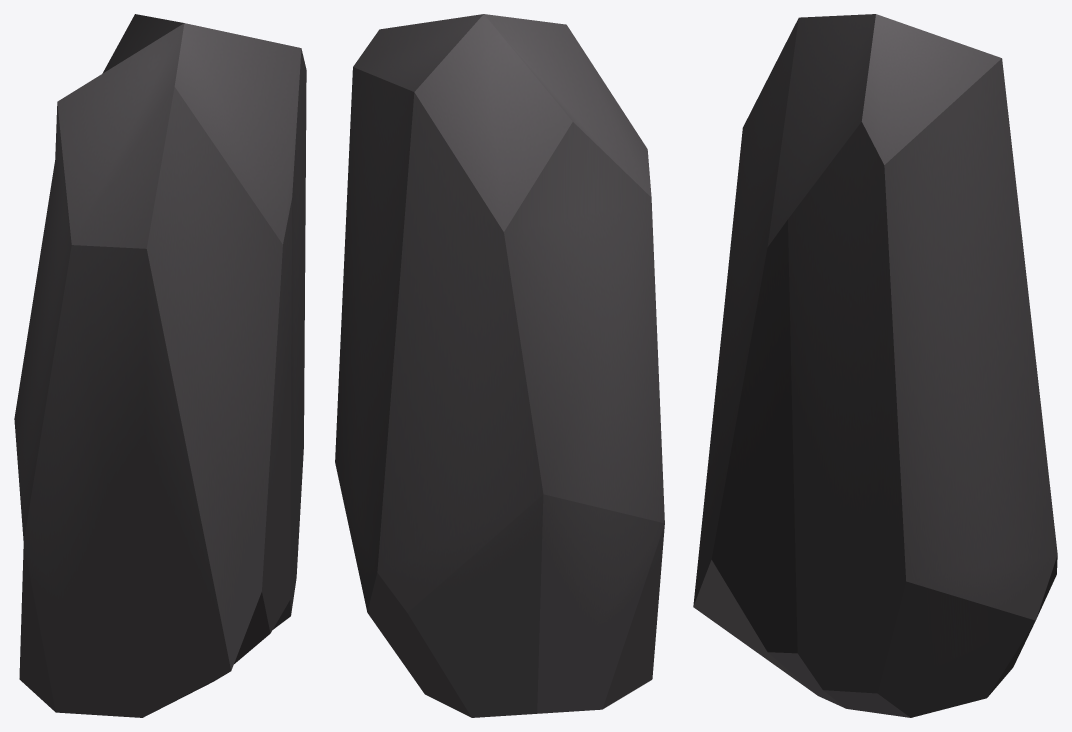
Rendered from TallSize_RockDark.fbx.
3 renders of one model, left to right at view 1: azimuth 30°, elevation 25°; view 2: azimuth 150°, elevation 25°; view 3: azimuth 270°, elevation 25°, orthographic. The views are drawn at different scales.
Parts seen in each view (by area): view 1: TallSize_RockDark; view 2: TallSize_RockDark; view 3: TallSize_RockDark.
Part boxes in pixels (x1=…): TallSize_RockDark: x1=14, y1=14, x2=306, y2=717; TallSize_RockDark: x1=335, y1=14, x2=664, y2=717; TallSize_RockDark: x1=693, y1=14, x2=1057, y2=717.
Bounding box in the file's own units: 1.72 × 3.46 × 1.68.
Materials: 1 (1 with a texture image).
